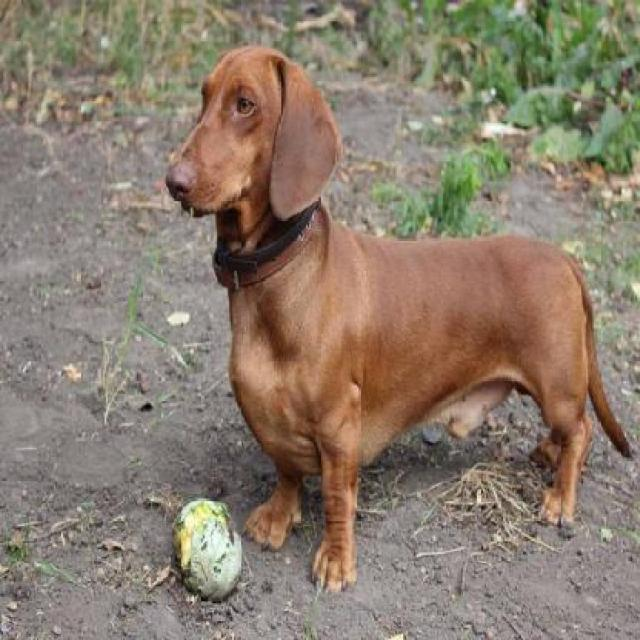Dog: (160, 38, 634, 604)
